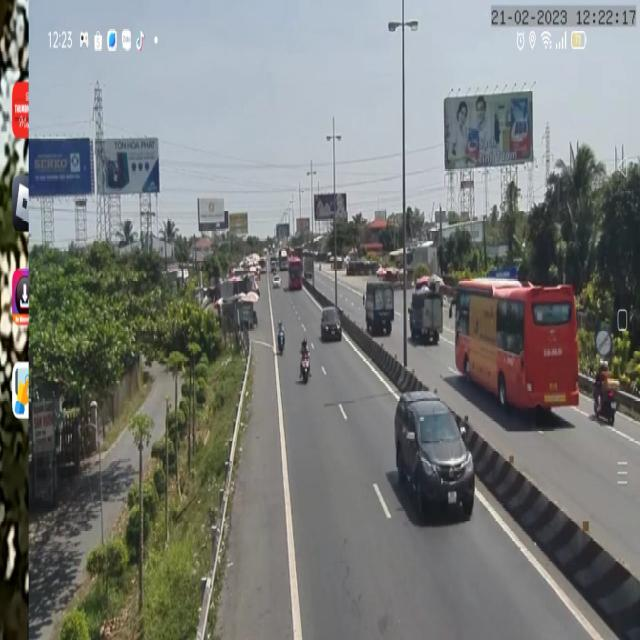bus: (455, 274, 579, 410), (286, 253, 303, 288)
car: (393, 394, 477, 526), (318, 306, 341, 344)
motorbike: (591, 359, 619, 430), (297, 336, 311, 383), (277, 318, 287, 356)
truck: (409, 288, 446, 346), (364, 277, 395, 336)
